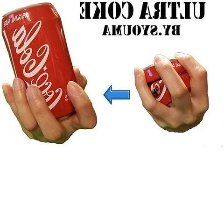can: (0, 0, 82, 122), (134, 53, 199, 114)
